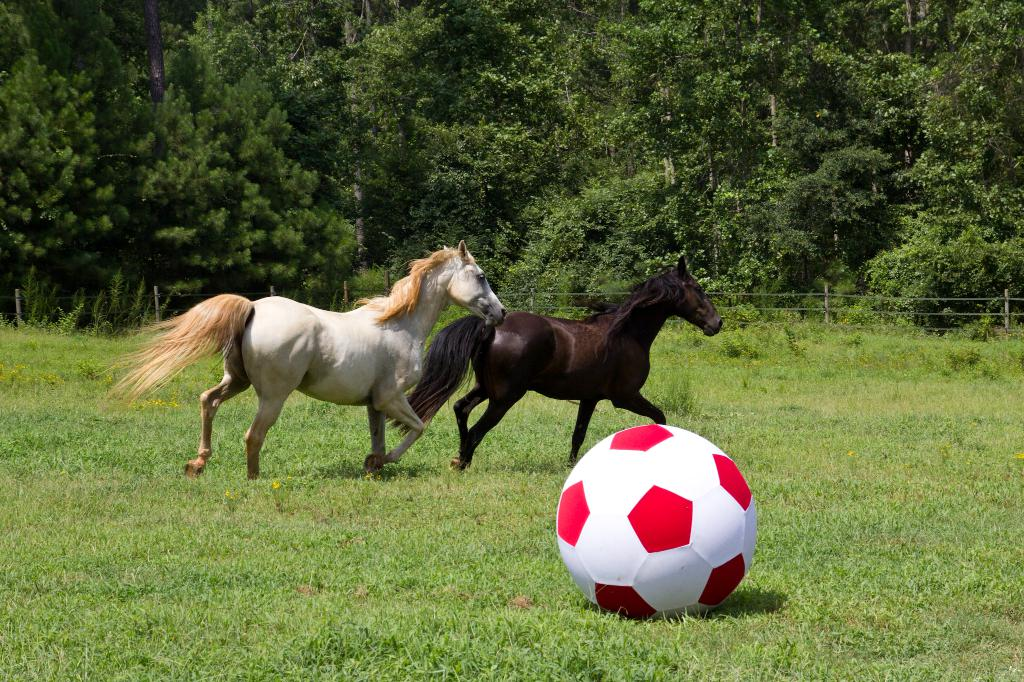horse: (97, 233, 507, 481)
